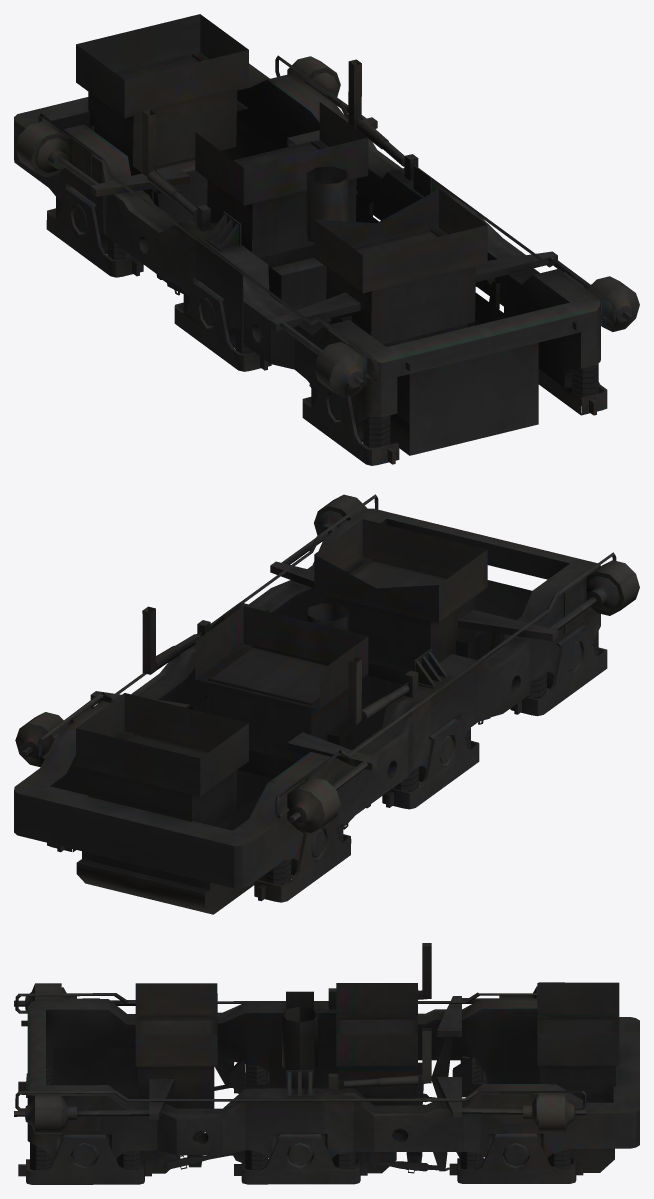
The model's file is truck.glb.
The picture shows the model from 3 angles, top to bottom: view 1: azimuth 30°, elevation 25°; view 2: azimuth 150°, elevation 25°; view 3: azimuth 270°, elevation 25°; orthographic projection. The views are drawn at different scales.
Visible parts, largest first — view 1: Truck; view 2: Truck; view 3: Truck.
Boxes of the visible parts, box(x1,y1,x2,y2) form: Truck: box(14, 14, 639, 465); Truck: box(14, 494, 639, 914); Truck: box(14, 943, 639, 1184).
Size of the model in its own units: 2.76 by 1.62 by 5.72.
1 material, 1 textured.
